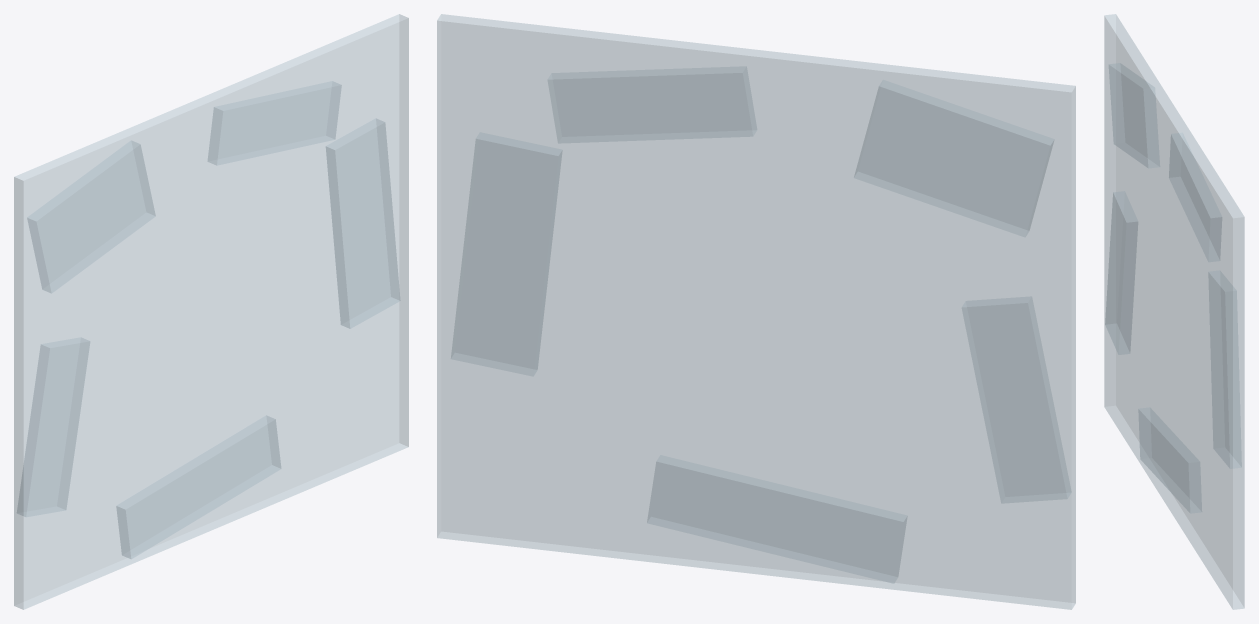
File: wipeglass.glb
3 renders of one model, left to right at view 1: azimuth 30°, elevation 25°; view 2: azimuth 150°, elevation 25°; view 3: azimuth 270°, elevation 25°, orthographic. The views are drawn at different scales.
Parts seen in each view (by area): view 1: log_wipe_pane, log_shard_2, log_shard_0, log_shard_4, log_shard_3, log_shard_1; view 2: log_wipe_pane, log_shard_2, log_shard_0, log_shard_4, log_shard_3, log_shard_1; view 3: log_wipe_pane, log_shard_2, log_shard_3, log_shard_0, log_shard_4, log_shard_1.
Boxes of the visible parts, x1=… form: log_wipe_pane: x1=14, y1=14, x2=408, y2=609; log_shard_2: x1=326, y1=118, x2=400, y2=328; log_shard_0: x1=27, y1=140, x2=155, y2=293; log_shard_4: x1=116, y1=415, x2=281, y2=558; log_shard_3: x1=17, y1=337, x2=89, y2=516; log_shard_1: x1=207, y1=81, x2=341, y2=165; log_wipe_pane: x1=437, y1=14, x2=1075, y2=609; log_shard_2: x1=451, y1=132, x2=562, y2=376; log_shard_0: x1=854, y1=80, x2=1054, y2=236; log_shard_4: x1=647, y1=455, x2=907, y2=583; log_shard_3: x1=962, y1=296, x2=1071, y2=503; log_shard_1: x1=547, y1=66, x2=756, y2=143; log_wipe_pane: x1=1104, y1=14, x2=1244, y2=609; log_shard_2: x1=1208, y1=270, x2=1241, y2=468; log_shard_3: x1=1105, y1=191, x2=1137, y2=354; log_shard_0: x1=1108, y1=63, x2=1159, y2=168; log_shard_4: x1=1138, y1=407, x2=1201, y2=513; log_shard_1: x1=1169, y1=133, x2=1221, y2=261.
Bounding box in the file's own units: 0.1186 × 0.106 × 0.0345.
